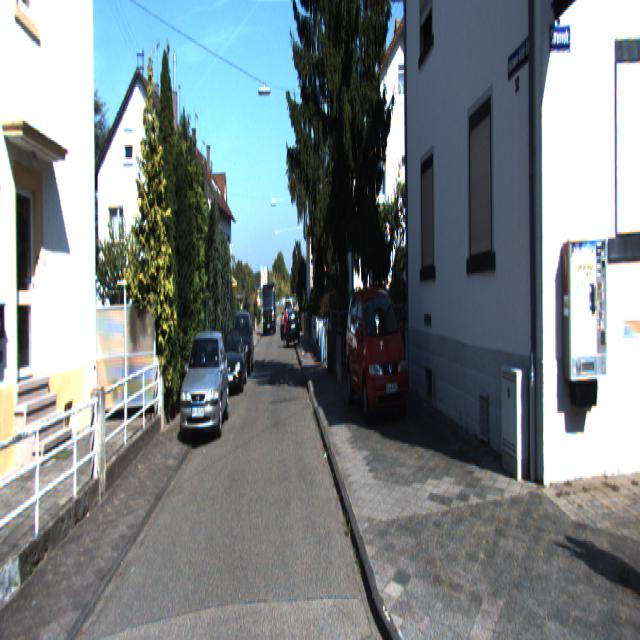Car: (345, 281, 409, 431), (180, 325, 230, 446), (217, 330, 247, 400)
